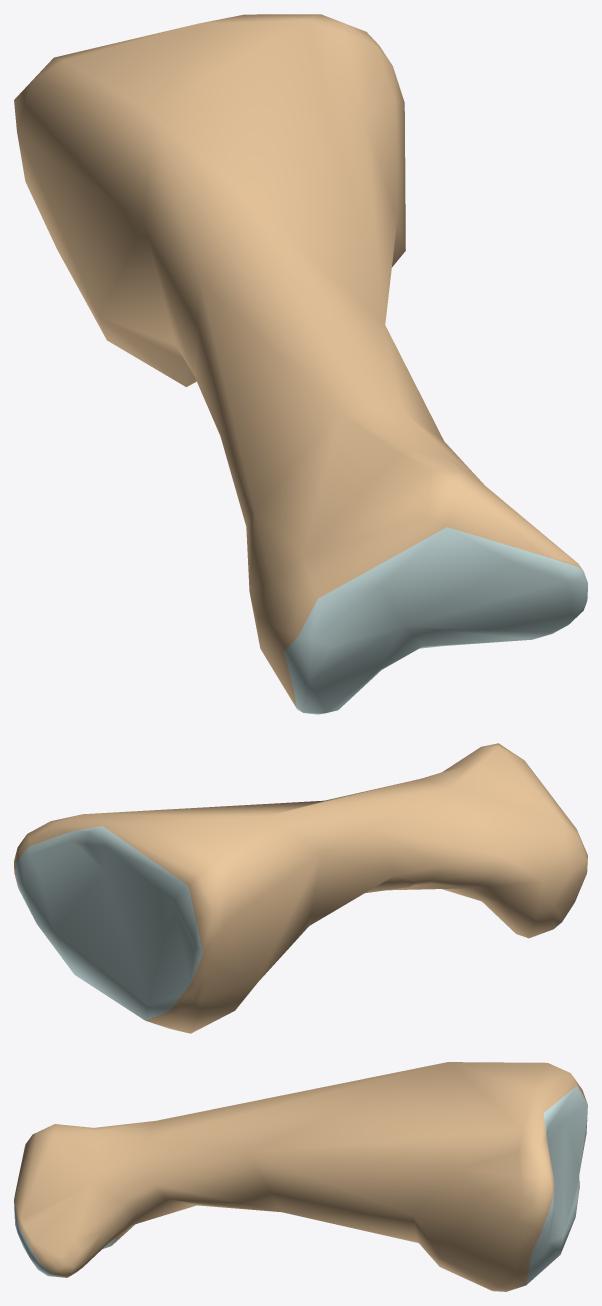
The model's file is Phalanx_proximal_2nd_finger_foot_right.glb.
The picture shows the model from 3 angles, top to bottom: view 1: azimuth 30°, elevation 25°; view 2: azimuth 150°, elevation 25°; view 3: azimuth 270°, elevation 25°; orthographic projection. The views are drawn at different scales.
Visible parts, largest first — view 1: Proximal_phalanx_of_2d_finger_of_foot.r_Generated_Mesh_From_; view 2: Proximal_phalanx_of_2d_finger_of_foot.r_Generated_Mesh_From_; view 3: Proximal_phalanx_of_2d_finger_of_foot.r_Generated_Mesh_From_.
Boxes of the visible parts, left/top/right/bottom form: Proximal_phalanx_of_2d_finger_of_foot.r_Generated_Mesh_From_: left=14, top=14, right=587, bottom=714; Proximal_phalanx_of_2d_finger_of_foot.r_Generated_Mesh_From_: left=14, top=743, right=587, bottom=1033; Proximal_phalanx_of_2d_finger_of_foot.r_Generated_Mesh_From_: left=14, top=1062, right=587, bottom=1291.
Bounding box in the file's own units: 0.0179 × 0.013 × 0.0294.
